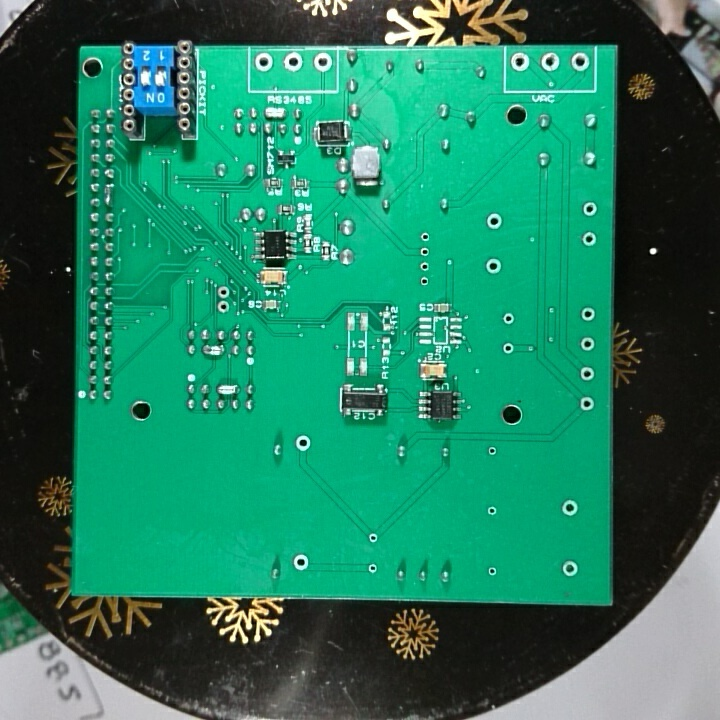F: (538, 50, 562, 76), (281, 51, 305, 76), (569, 50, 590, 75), (508, 52, 534, 72), (559, 558, 581, 581), (577, 302, 598, 326), (482, 210, 504, 232), (311, 52, 334, 73), (253, 51, 274, 74), (293, 431, 313, 455), (559, 497, 580, 519), (577, 363, 598, 385), (484, 254, 504, 277), (291, 551, 311, 573), (580, 199, 600, 221), (578, 393, 597, 416), (577, 335, 598, 355), (580, 229, 599, 251), (501, 309, 517, 328), (485, 503, 502, 520), (216, 284, 233, 301), (365, 558, 380, 577), (484, 443, 500, 460), (365, 529, 381, 546), (499, 340, 517, 355), (214, 300, 232, 315), (417, 244, 433, 260), (417, 229, 434, 244), (485, 563, 499, 580), (417, 274, 432, 289), (417, 260, 431, 273)
P: (199, 340, 228, 359), (261, 103, 288, 121), (215, 380, 241, 397), (102, 182, 117, 206)
